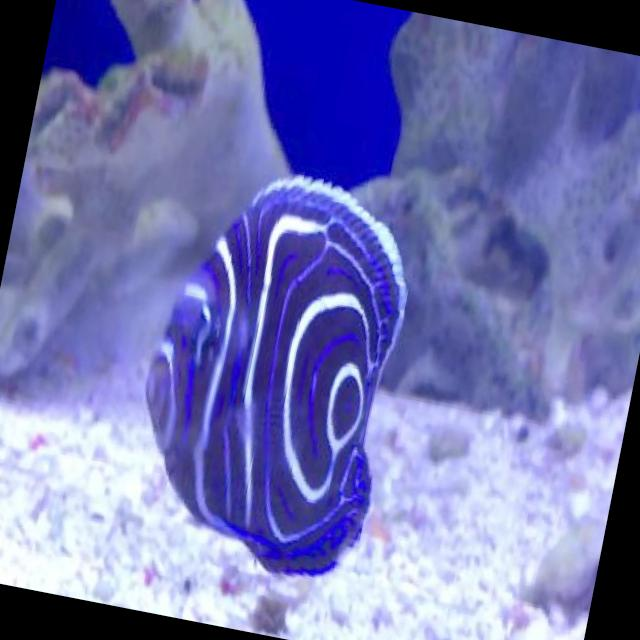AngelFish: (119, 159, 439, 592)
